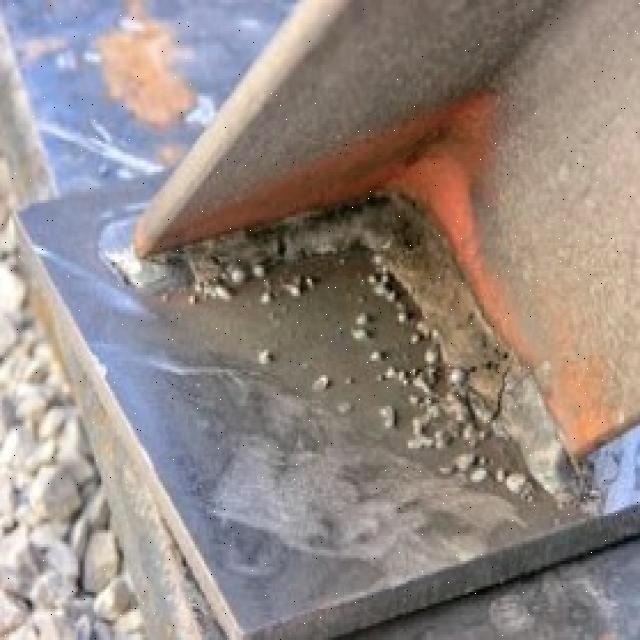Bad Welding: (160, 174, 612, 515)
